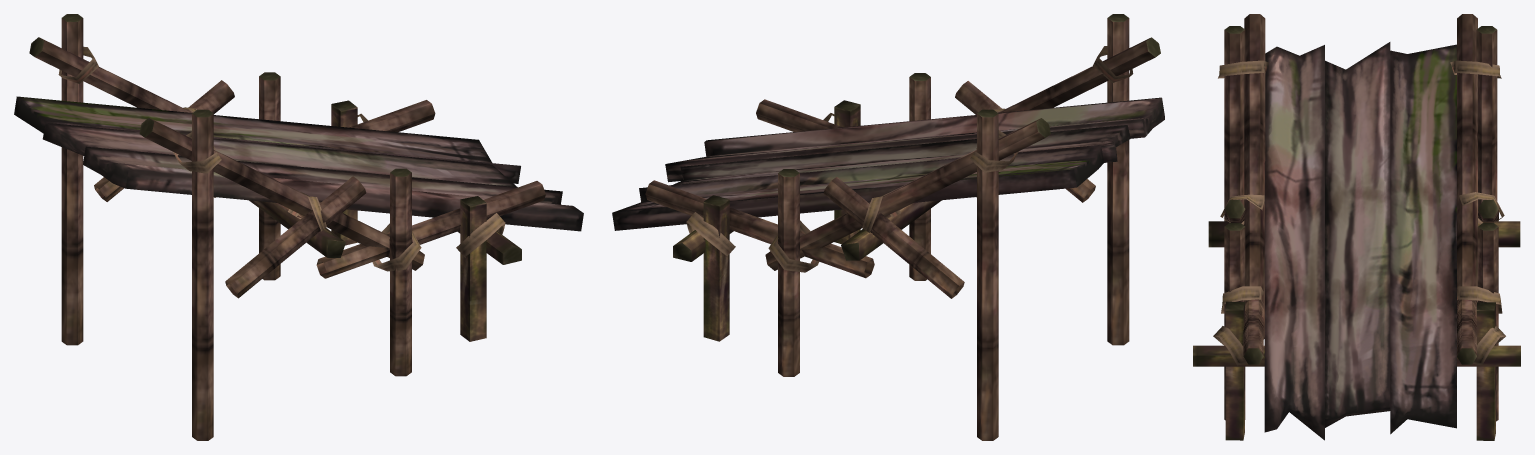
Rendered from STR_StairWoodB.FBX.
The picture shows the model from 3 angles, left to right: view 1: azimuth 30°, elevation 25°; view 2: azimuth 150°, elevation 25°; view 3: azimuth 270°, elevation 25°; orthographic projection. The views are drawn at different scales.
Visible parts, largest first — view 1: STR_StairWoodB; view 2: STR_StairWoodB; view 3: STR_StairWoodB.
Boxes of the visible parts, x1,y1,x2,y2 form: STR_StairWoodB: [14, 14, 583, 440]; STR_StairWoodB: [612, 14, 1164, 440]; STR_StairWoodB: [1193, 14, 1520, 440].
Size of the model in its own units: 510 by 324 by 308.
